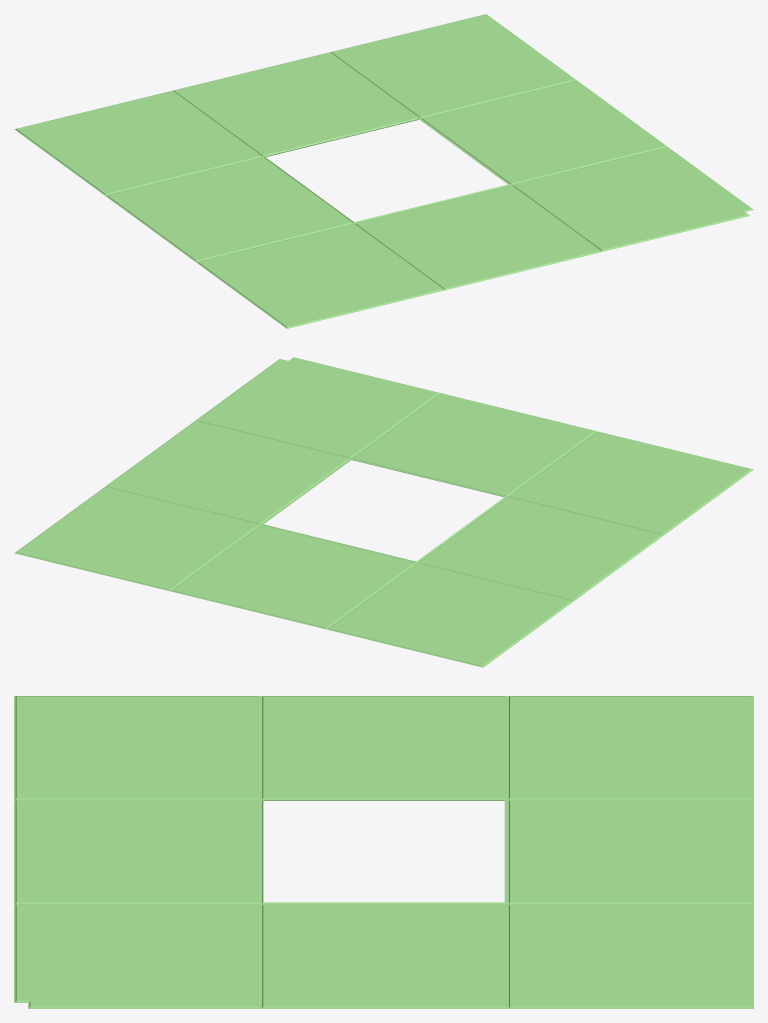
Rendered from Room_ceiling_corner_out_w_light.fbx.
3 renders of one model, top to bottom at view 1: azimuth 30°, elevation 25°; view 2: azimuth 150°, elevation 25°; view 3: azimuth 270°, elevation 25°, orthographic. The views are drawn at different scales.
Parts seen in each view (by area): view 1: Room_ceiling_corner_out_w_light; view 2: Room_ceiling_corner_out_w_light; view 3: Room_ceiling_corner_out_w_light.
Boxes of the visible parts, x1=… form: Room_ceiling_corner_out_w_light: x1=14, y1=14, x2=753, y2=328; Room_ceiling_corner_out_w_light: x1=14, y1=357, x2=753, y2=667; Room_ceiling_corner_out_w_light: x1=14, y1=696, x2=753, y2=1008.
Size of the model in its own units: 2 by 0.00309 by 2.
